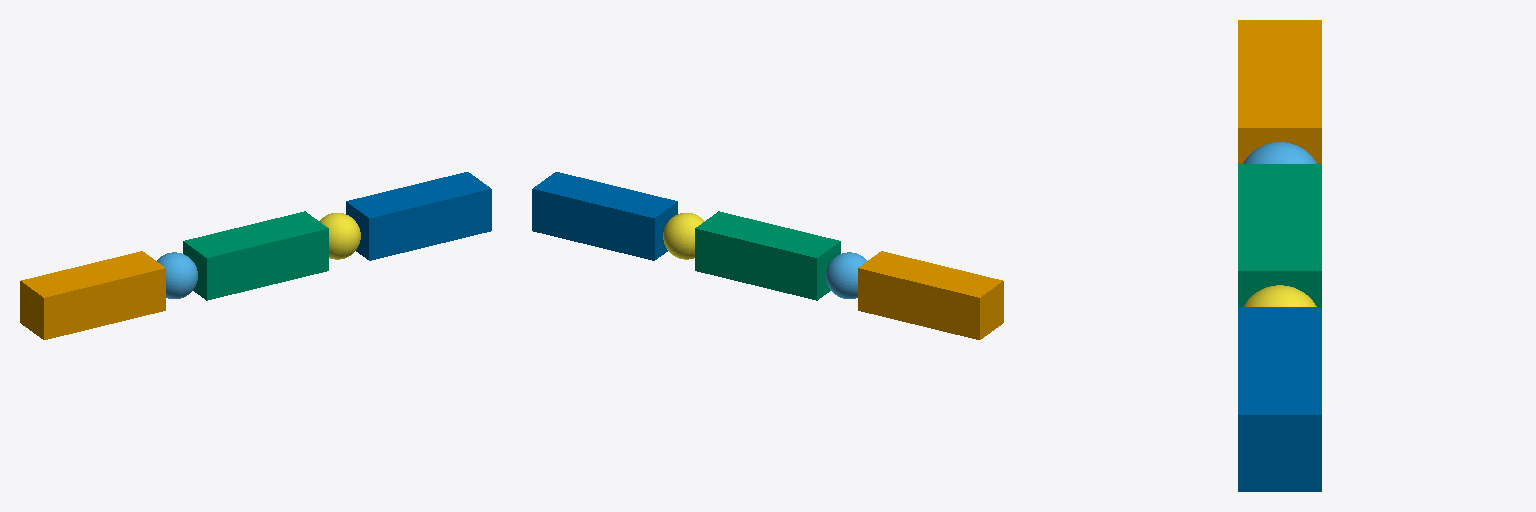
URDF robot description (finger):
<?xml version="1.0" encoding="utf-8"?>
<robot name="finger">
  <link name="seg1">
    <visual>
      <geometry>
        <mesh filename="rect.stl"/>
      </geometry>
      <origin rpy="0 0 0" xyz="0 0 0"/>
    </visual>
    <collision>
      <geometry>
        <mesh filename="rect.stl"/>
      </geometry>
      <origin rpy="0 0 0" xyz="0 0 0"/>
    </collision>
  </link>
  <link name="ball1">
    <visual>
      <geometry>
        <mesh filename="sphere.stl"/>
      </geometry>
      <origin rpy="0 0 0" xyz="3.5 0.5 0.5"/>
    </visual>
    <collision>
      <geometry>
        <mesh filename="sphere.stl"/>
      </geometry>
      <origin rpy="0 0 0" xyz="3.5 0.5 0.5"/>
    </collision>
  </link>

  <link name="seg2">
    <visual>
      <geometry>
        <mesh filename="rect.stl"/>
      </geometry>
      <origin rpy="0 0 0" xyz="0.5 -0.5 -0.5"/>
    </visual>
    <collision>
      <geometry>
        <mesh filename="rect.stl"/>
      </geometry>
      <origin rpy="0 0 0" xyz="0.5 -0.5 -0.5"/>
    </collision>
  </link>
  <link name="ball2">
    <visual>
      <geometry>
        <mesh filename="sphere.stl"/>
      </geometry>
      <origin rpy="0 0 0" xyz="4 0 0"/>
    </visual>
    <collision>
      <geometry>
        <mesh filename="sphere.stl"/>
      </geometry>
      <origin rpy="0 0 0" xyz="4 0 0"/>
    </collision>
  </link>

  <link name="seg3">
    <visual>
      <geometry>
        <mesh filename="rect.stl"/>
      </geometry>
      <origin rpy="0 0 0" xyz="0.5 -0.5 -0.5"/>
    </visual>
    <collision>
      <geometry>
        <mesh filename="rect.stl"/>
      </geometry>
      <origin rpy="0 0 0" xyz="0.5 -0.5 -0.5"/>
    </collision>
  </link>

  <joint name="fix1" type="fixed">
        <parent link="seg1"/>
        <child link="ball1"/>
  </joint>
  <joint name="joint1" type="revolute">
        <parent link="ball1"/>
        <child link="seg2"/>
        <origin xyz="3.5 0.5 0.5"/>
        <axis xyz="0 1 0"/>
        <limit effort="1000.0" lower="-0.5" upper="0.5" velocity="100"/>
  </joint>

  <joint name="fix2" type="fixed">
        <parent link="seg2"/>
        <child link="ball2"/>
  </joint>
  <joint name="joint2" type="revolute">
        <parent link="ball2"/>
        <child link="seg3"/>
        <origin xyz="4 0 0"/>
        <axis xyz="0 0 1"/>
        <limit effort="1000.0" lower="-0.5" upper="0.5" velocity="100"/>
  </joint>
</robot>

--- What the picture shows (computed from the rendered views, not written in the file) ---
3 views of the same robot in one strip: view 1: azimuth 30°, elevation 25°; view 2: azimuth 150°, elevation 25°; view 3: azimuth 270°, elevation 25° (orthographic).
Robot: finger — 5 links, 4 joints (2 revolute, 2 fixed); root link seg1; default pose: every joint at zero.
Links seen in each view (by area): view 1: seg1, seg3, seg2, ball1, ball2; view 2: seg1, seg3, seg2, ball1, ball2; view 3: seg3, seg1, seg2, ball1, ball2.
Boxes of the visible links, <box> form: seg1: <box>20,251,165,339</box>; seg3: <box>346,172,491,260</box>; seg2: <box>183,211,328,300</box>; ball1: <box>157,252,197,298</box>; ball2: <box>319,213,360,259</box>; seg1: <box>858,251,1003,339</box>; seg3: <box>532,172,677,260</box>; seg2: <box>695,211,840,300</box>; ball1: <box>826,252,866,298</box>; ball2: <box>663,213,704,259</box>; seg3: <box>1238,307,1321,491</box>; seg1: <box>1238,20,1321,163</box>; seg2: <box>1238,164,1321,306</box>; ball1: <box>1243,142,1316,163</box>; ball2: <box>1243,285,1316,306</box>.
Size in the robot's own frame: 11 by 1 by 1 metres.
5 mesh visuals loaded from 2 distinct referenced files (2 binary STL).